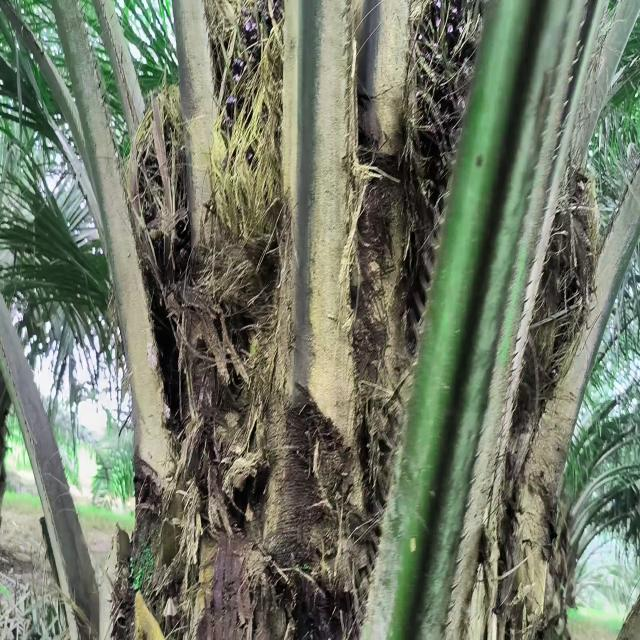palm-oil: (412, 0, 527, 277), (206, 2, 295, 270)
